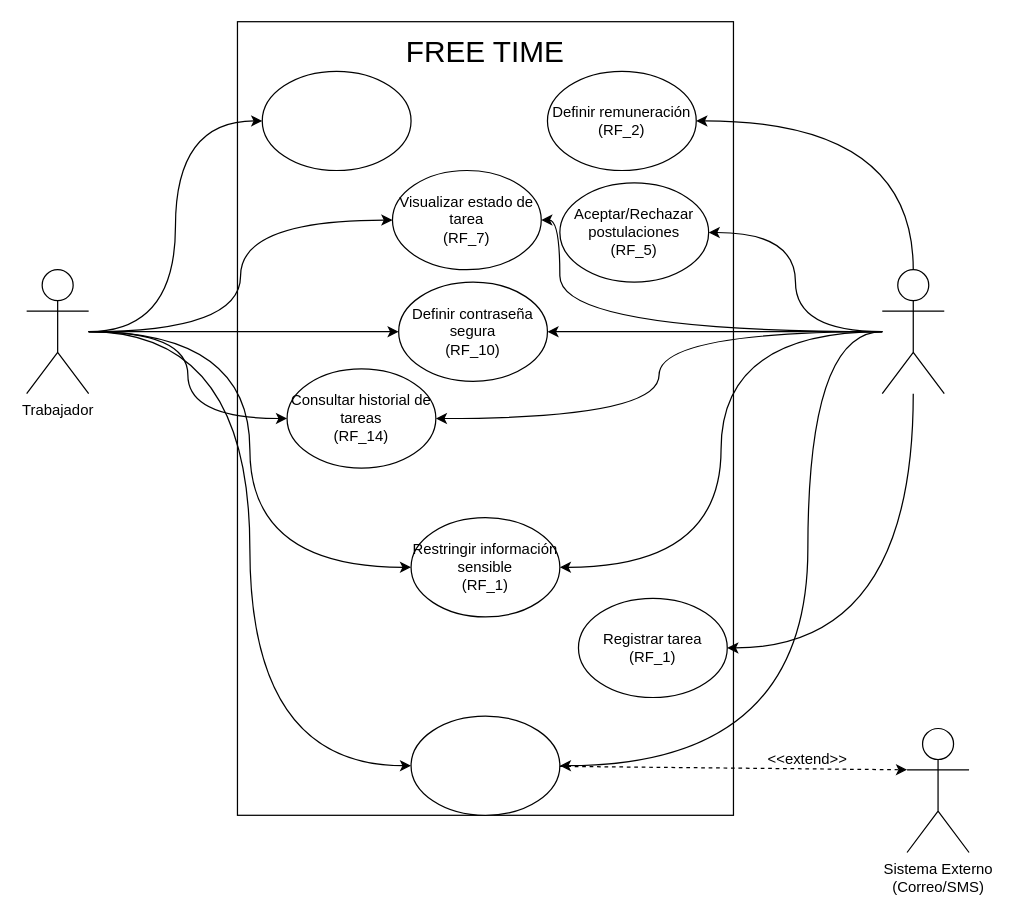
This 1013x919 diagram has some shape labels left out. Here are the shapes that lost their labels. From the top down, the centre of each, then its label:
the point at 336,120: Buscar tarea con filtro (RF_4)
the point at 912,331: Empleador
the point at 485,765: Verificar cuenta (RF_9)
